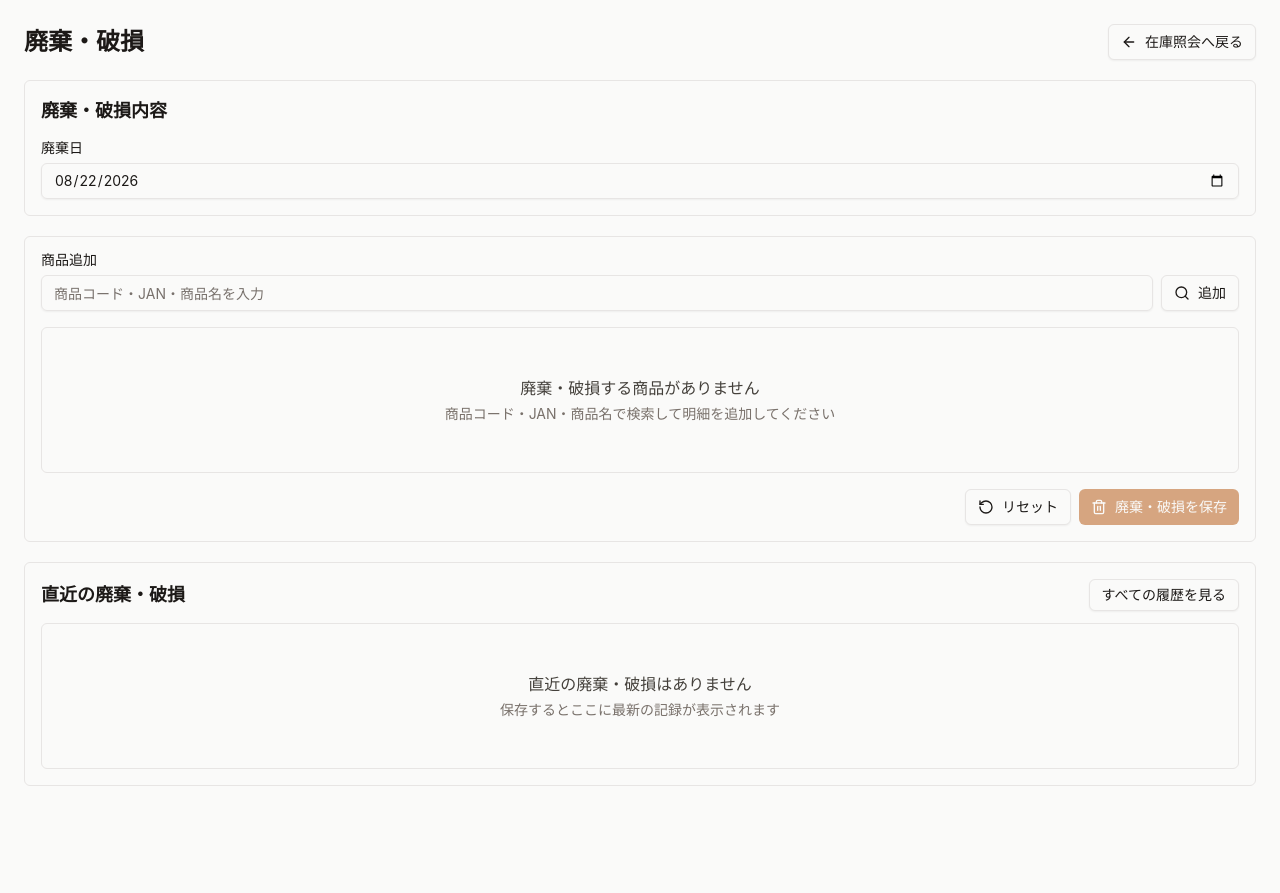
Test: DisposalPage (UI-05 / REQ-204) › REQ-204 requires explicit selection when multiple products match
Step 1. Type "商品" into the dropdown named "廃棄・破損商品検索" → (597, 293), box 41,275 -> 1153,311
Then press Enter
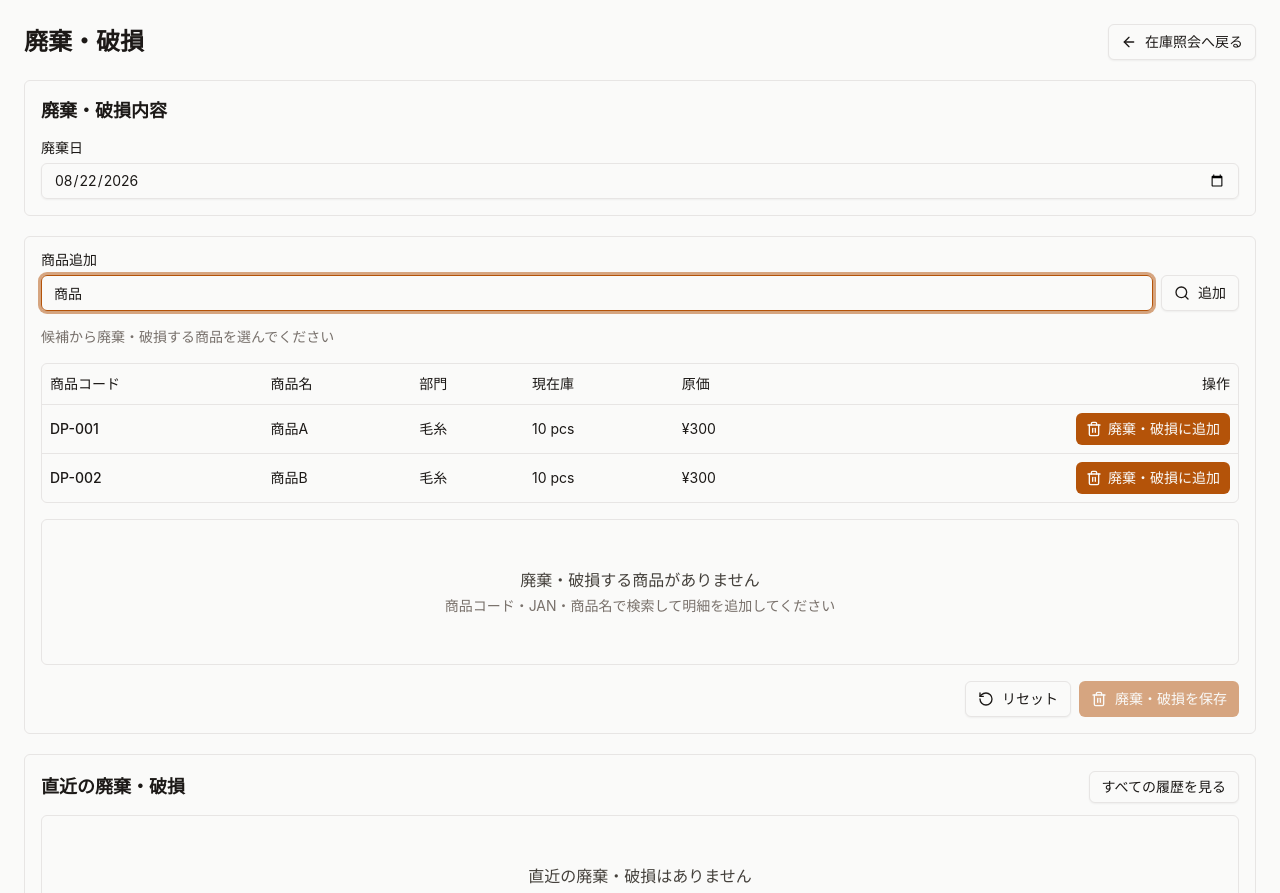
expect the text "候補から廃棄・破損する商品を選んでください" is shown: met, box 41,327 -> 334,347
Step 2. Click the button "廃棄・破損に追加" in the row of "DP-002" → (1153, 478), box 1076,462 -> 1230,494
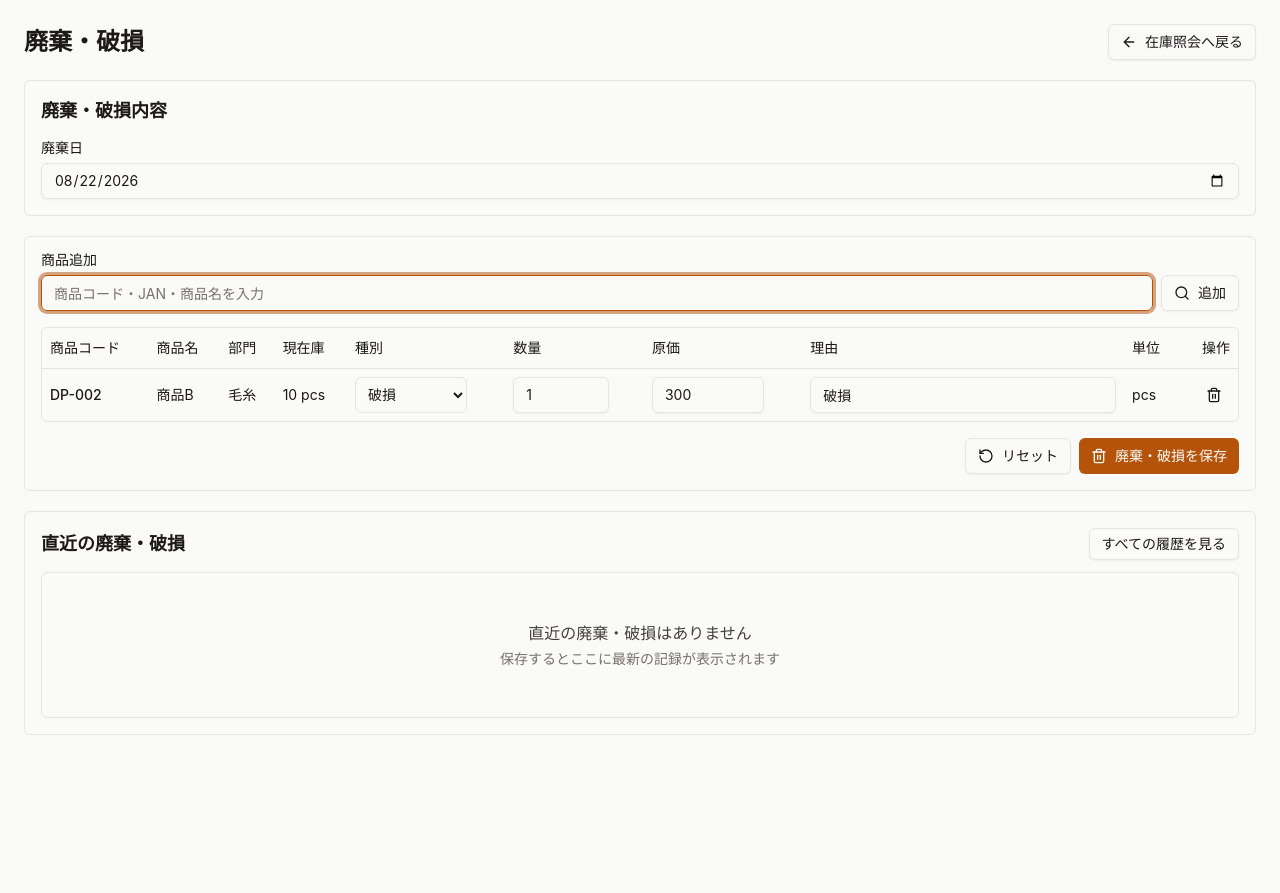
expect the number field named "DP-002 の数量" is shown: met, box 513,376 -> 609,412
